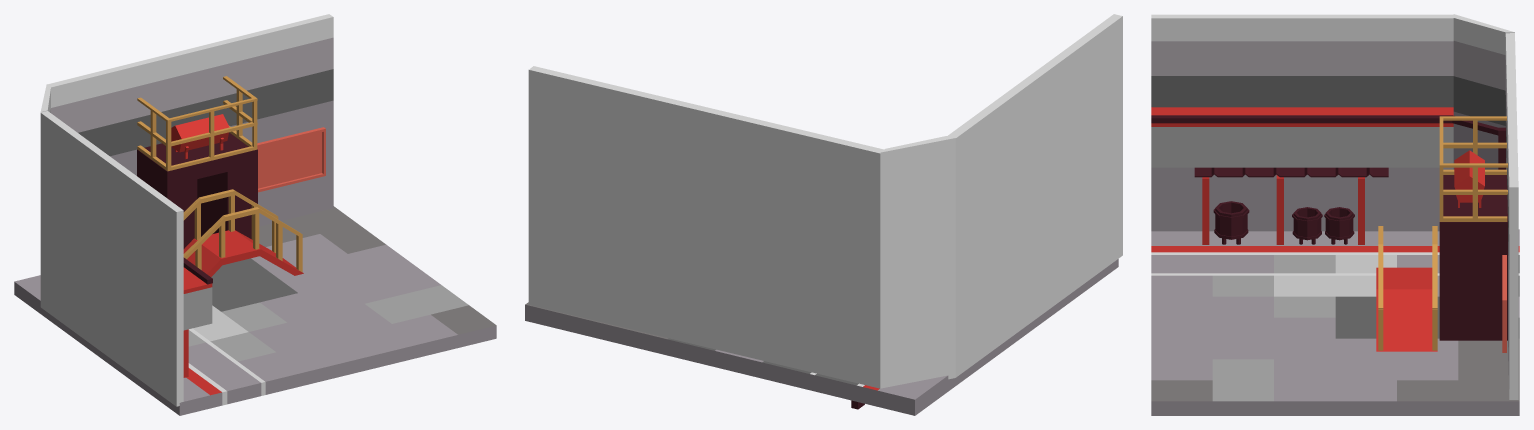
3 views of the same model, side by side, from view 1: azimuth 30°, elevation 25°; view 2: azimuth 150°, elevation 25°; view 3: azimuth 270°, elevation 25° (orthographic). The views are drawn at different scales.
Parts seen in each view (by area): view 1: Cube.005, Cube, Cube.006, Cube.007, Cube.010, Cube.008, Cube.014, Cylinder, Cube.009; view 2: Cube.005, Cube; view 3: Cube.005, Cube, Cube.006, Cube.008, Cube.011, Cube.007, Cube.004, Cylinder.005, Cylinder, Cylinder.001, Cylinder.002, Cube.014 (+5 smaller).
Boxes of the visible parts, x1,y1,x2,y2 form: Cube.005: (40,14,333,406); Cube: (14,206,496,415); Cube.006: (137,132,257,248); Cube.007: (137,76,257,171); Cube.010: (257,127,325,192); Cube.008: (183,230,303,276); Cube.014: (183,207,302,272); Cylinder: (171,114,229,158); Cube.009: (183,189,278,252); Cube.005: (528,14,1122,388); Cube: (525,259,1118,415); Cube.005: (1151,14,1518,399); Cube: (1151,229,1519,415); Cube.006: (1439,175,1507,340); Cube.008: (1376,267,1437,351); Cube.011: (1151,115,1505,169); Cube.007: (1439,116,1507,221); Cube.004: (1194,167,1388,177); Cylinder.005: (1213,201,1249,244); Cylinder: (1454,150,1484,207); Cylinder.001: (1292,207,1322,244); Cylinder.002: (1324,207,1354,244); Cube.014: (1378,226,1383,350).
Size of the model in its own units: 2548 by 1636 by 2283.
